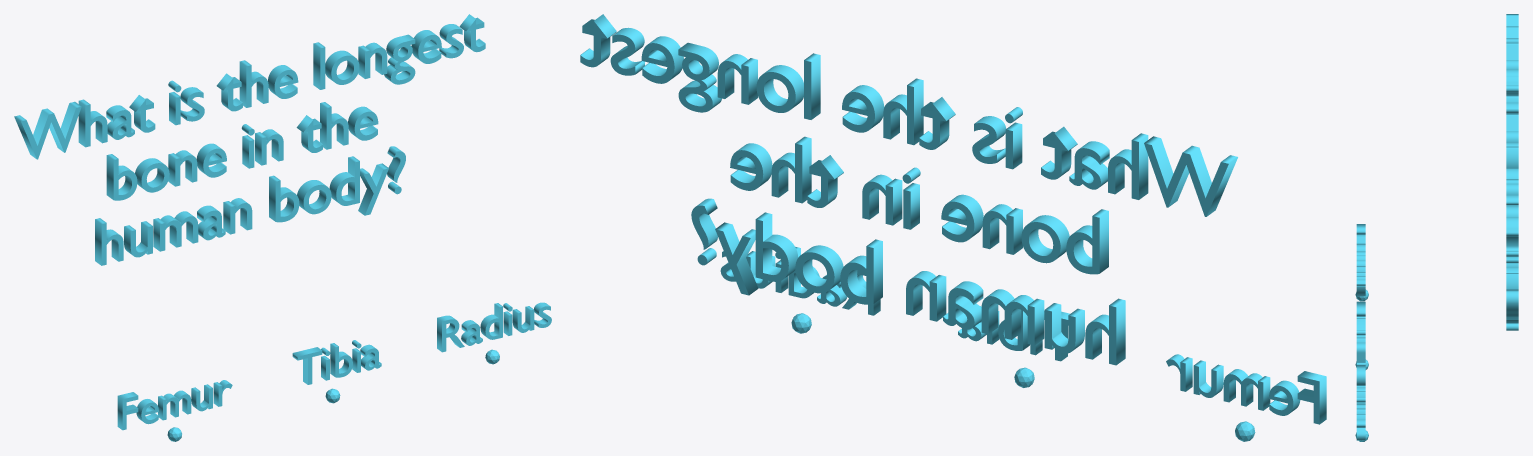
File: console_test_015.fbx
3 renders of one model, left to right at view 1: azimuth 30°, elevation 25°; view 2: azimuth 150°, elevation 25°; view 3: azimuth 270°, elevation 25°, orthographic. The views are drawn at different scales.
Visible parts, largest first — view 1: Txt_Test_01.060, Failure.035, Success.005, Failure.036; view 2: Txt_Test_01.060, Success.005, Failure.035, Failure.036; view 3: Txt_Test_01.060, Failure.035, Success.005, Failure.036.
Part boxes in pixels (x1=…): Txt_Test_01.060: x1=14, y1=14, x2=485, y2=265; Failure.035: x1=437, y1=302, x2=551, y2=352; Success.005: x1=117, y1=380, x2=232, y2=430; Failure.036: x1=292, y1=340, x2=381, y2=384; Txt_Test_01.060: x1=580, y1=14, x2=1237, y2=365; Success.005: x1=1166, y1=354, x2=1326, y2=424; Failure.035: x1=720, y1=247, x2=880, y2=315; Failure.036: x1=958, y1=306, x2=1069, y2=361; Txt_Test_01.060: x1=1506, y1=14, x2=1518, y2=330; Failure.035: x1=1356, y1=365, x2=1365, y2=440; Success.005: x1=1356, y1=224, x2=1365, y2=296; Failure.036: x1=1356, y1=301, x2=1365, y2=365.
Size of the model in its own units: 1.79 by 1.03 by 0.6.
